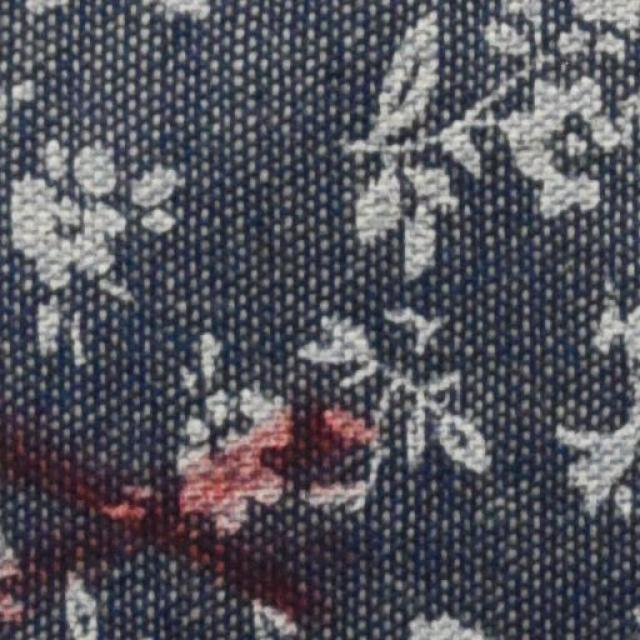Stain: (2, 397, 378, 611)
